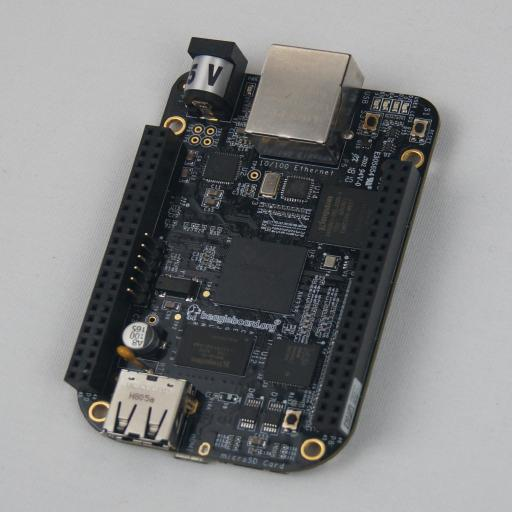Beaglebone Black: (64, 37, 441, 475)
